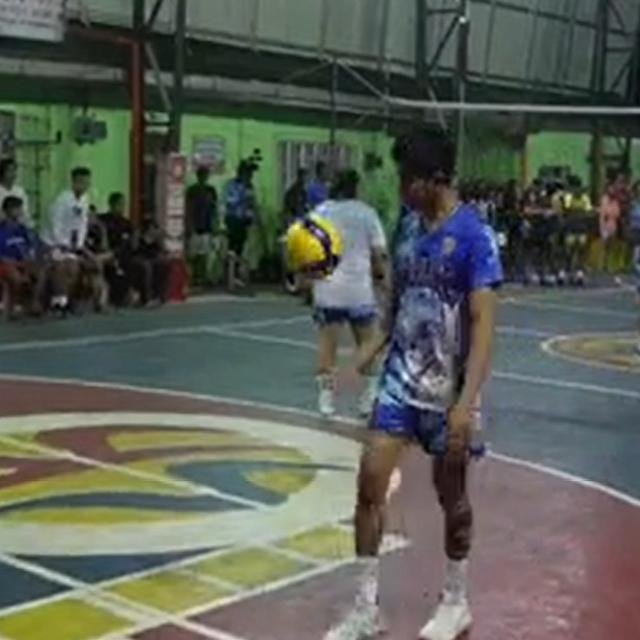volleyball: (280, 218, 342, 278)
